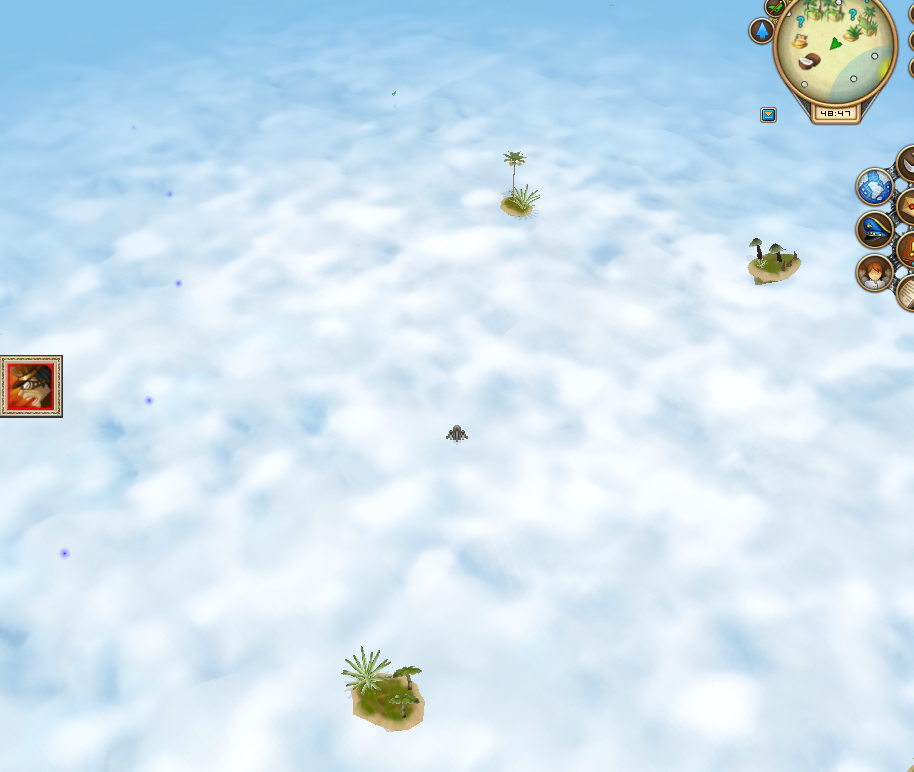palm: (496, 147, 541, 223)
